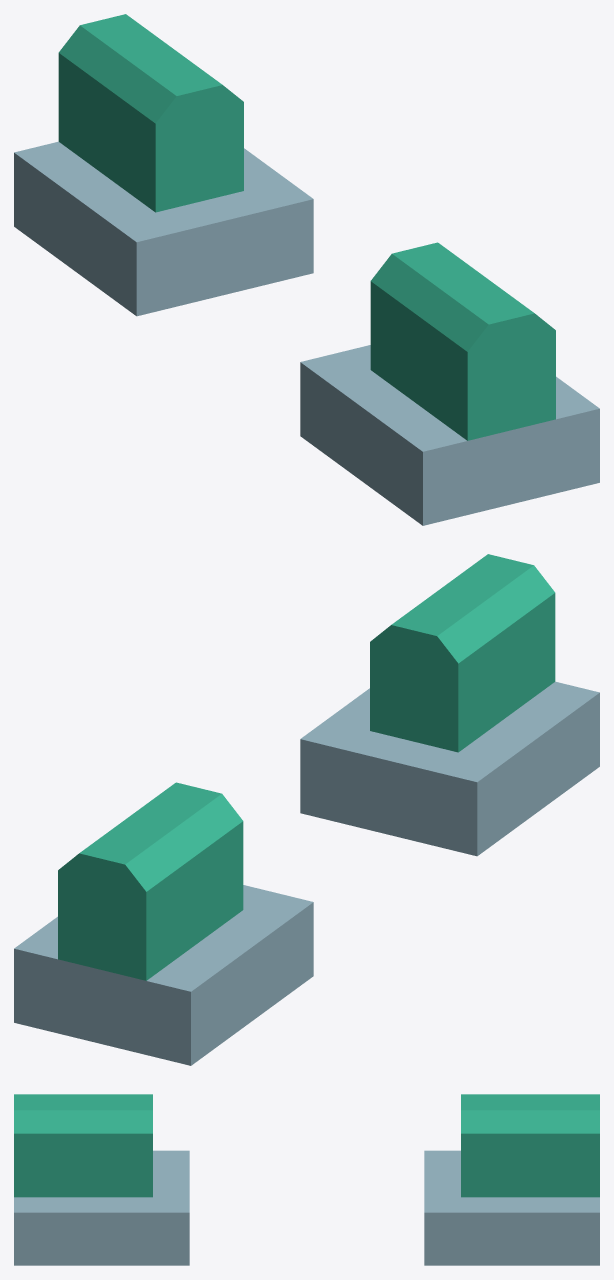
Rendered from hedgeGate.obj.
3 renders of one model, top to bottom at view 1: azimuth 30°, elevation 25°; view 2: azimuth 150°, elevation 25°; view 3: azimuth 270°, elevation 25°, orthographic. The views are drawn at different scales.
Visible parts, largest first — view 1: hedgeGate; view 2: hedgeGate; view 3: hedgeGate.
Boxes of the visible parts, <box> form: hedgeGate: <box>14,14,599,525</box>; hedgeGate: <box>14,554,599,1065</box>; hedgeGate: <box>14,1094,599,1265</box>.
Bounding box in the file's own units: 0.25 × 0.25 × 1.
